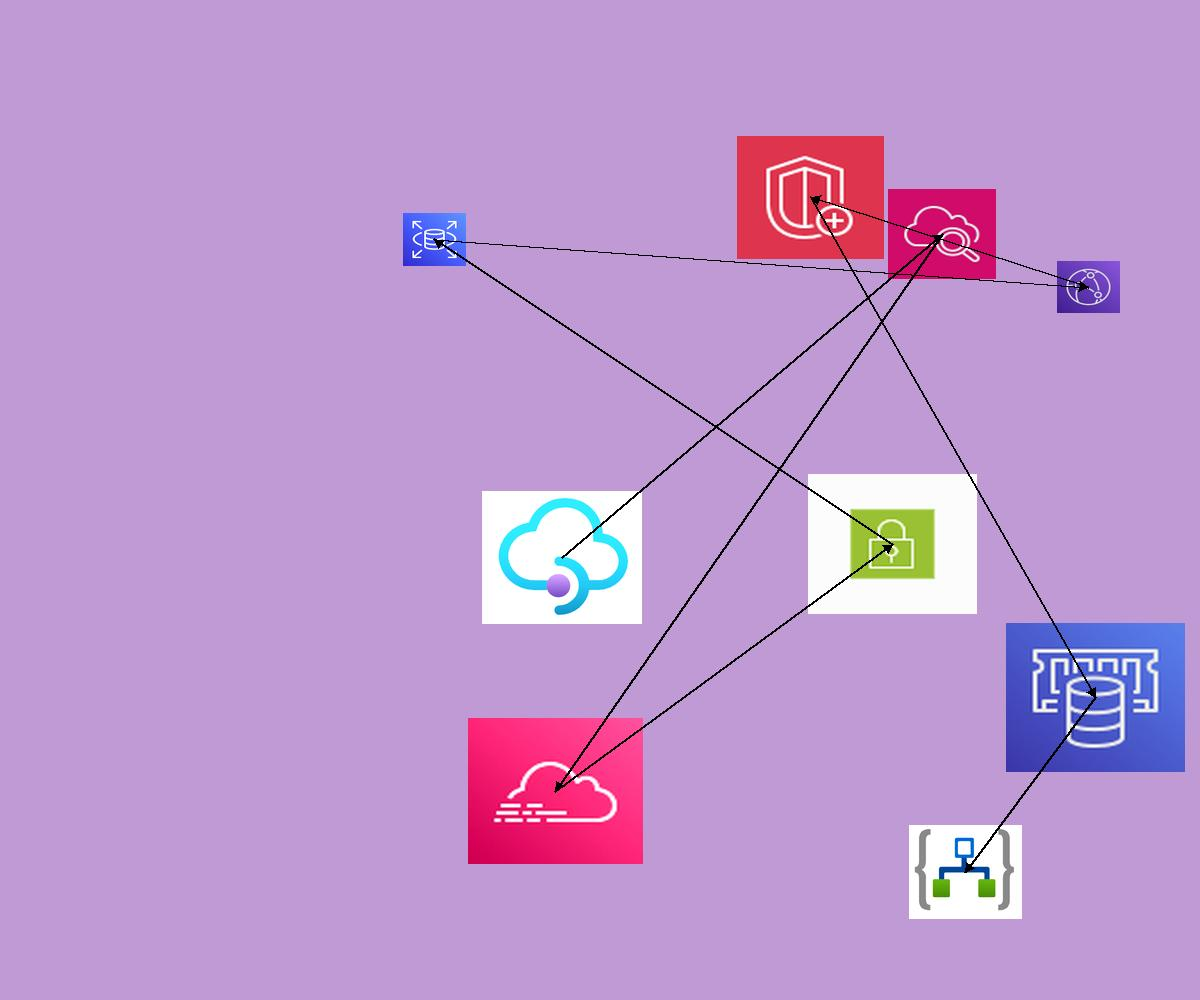AWS-CloudFront: (1057, 261, 1120, 313)
AWS-CloudTrail: (468, 718, 643, 864)
AWS-CloudWatch: (888, 189, 996, 279)
AWS-ElastiCache: (1006, 623, 1185, 772)
AWS-Public-subnet: (808, 474, 977, 614)
AWS-RDS: (403, 213, 466, 266)
AWS-Shield: (737, 136, 884, 259)
Azure_api_gateway: (482, 491, 642, 624)
Azure_integration-204-Logic-Apps: (909, 825, 1022, 919)
